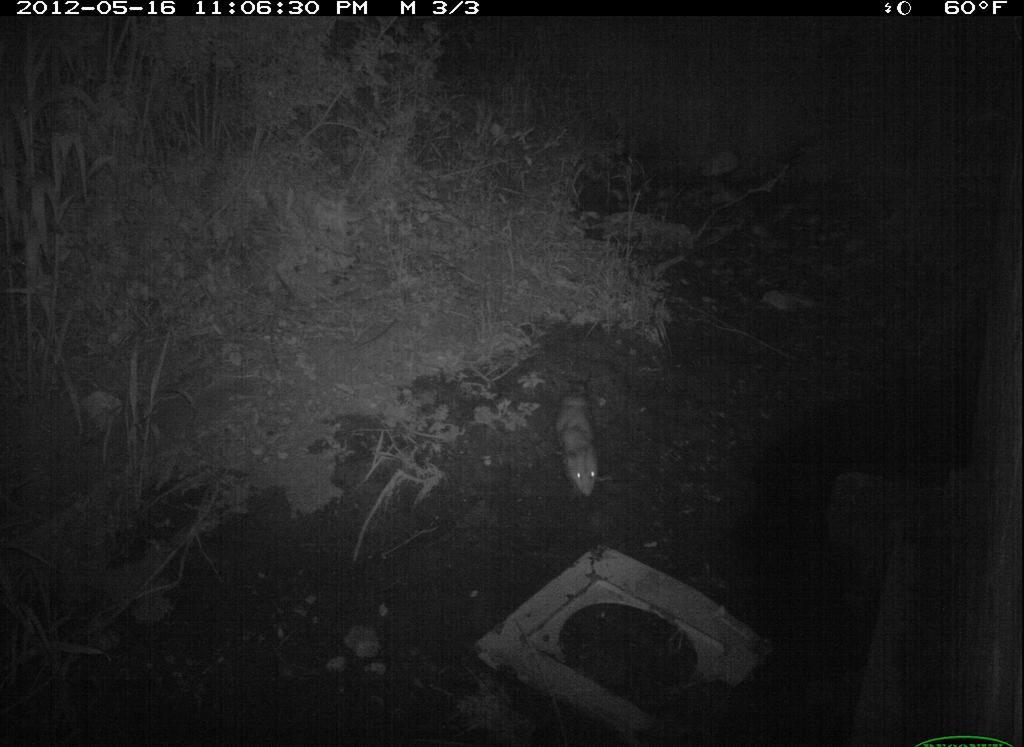opossum: (548, 365, 633, 523)
